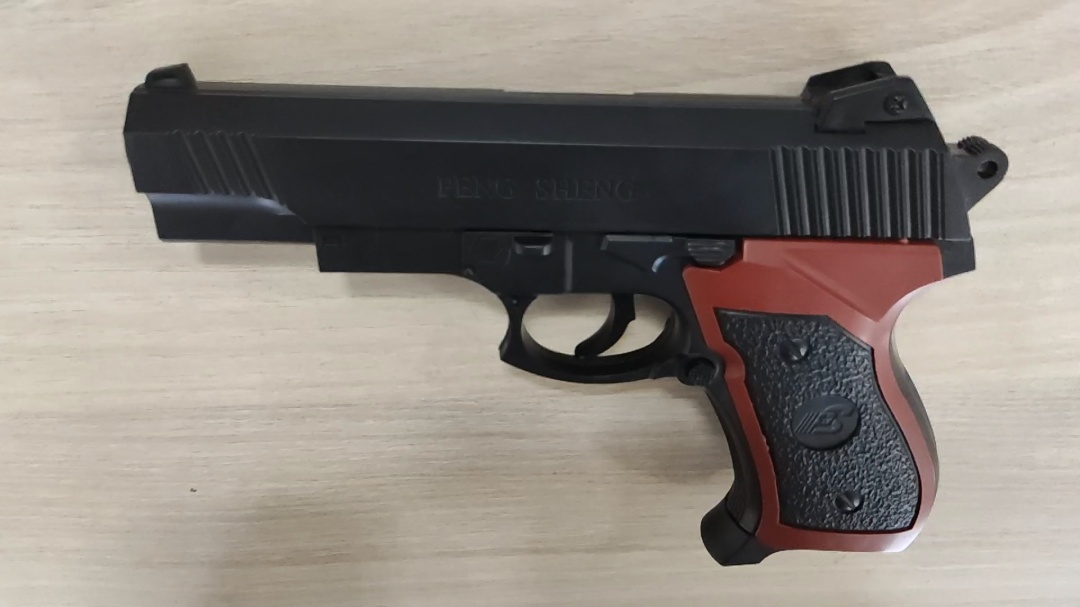gun: (397, 227, 484, 290)
